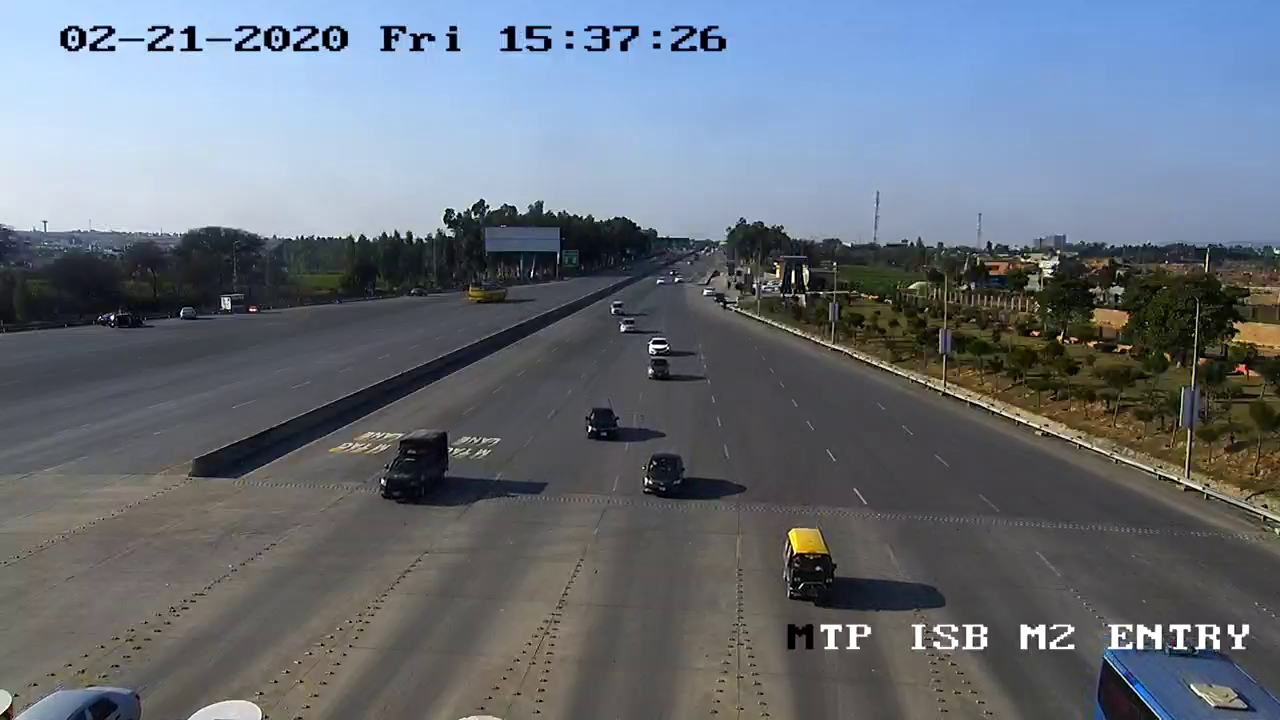f1: (363, 428, 469, 509), (767, 521, 850, 608), (639, 443, 694, 508)
